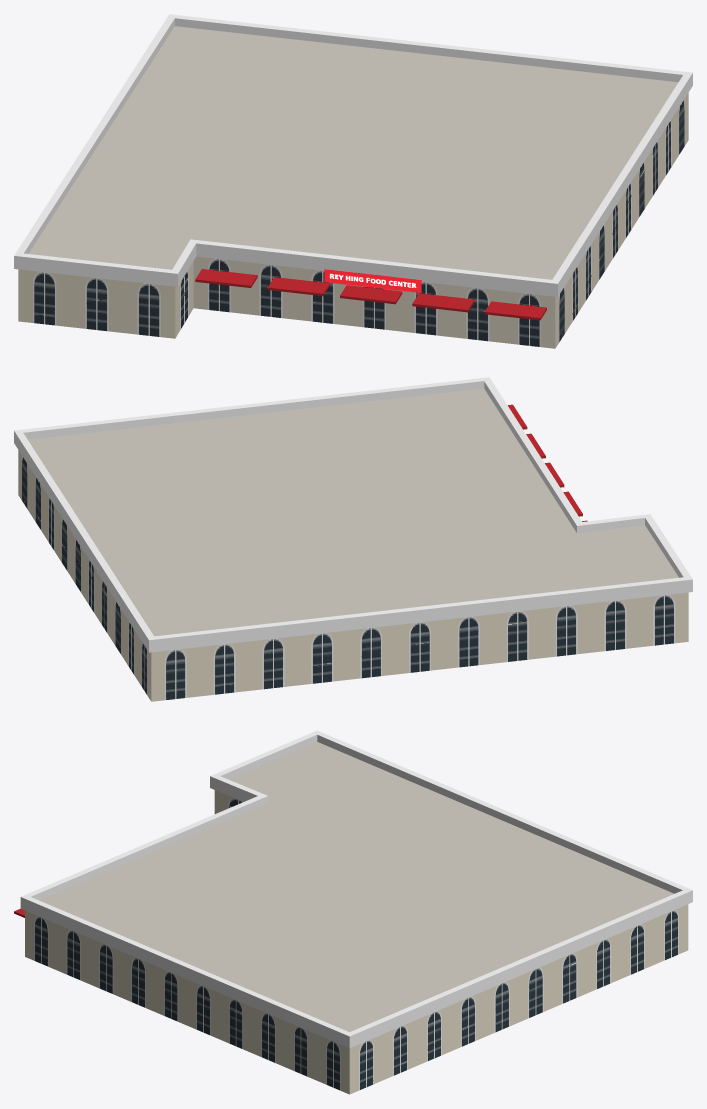
The model's file is reyhing.glb.
3 views of the same model, one above another, from view 1: azimuth 30°, elevation 25°; view 2: azimuth 150°, elevation 25°; view 3: azimuth 270°, elevation 25° (orthographic). The views are drawn at different scales.
Visible parts, largest first — view 1: reyhing_lod0; view 2: reyhing_lod0; view 3: reyhing_lod0.
Part boxes in pixels (left/top/right/bottom): reyhing_lod0: left=14, top=14, right=692, bottom=348; reyhing_lod0: left=14, top=377, right=692, bottom=701; reyhing_lod0: left=14, top=730, right=692, bottom=1094.
Size of what is drawn, in the model's own units: 55.81 by 5.1 by 52.31.
Materials: 5 (2 with a texture image).
